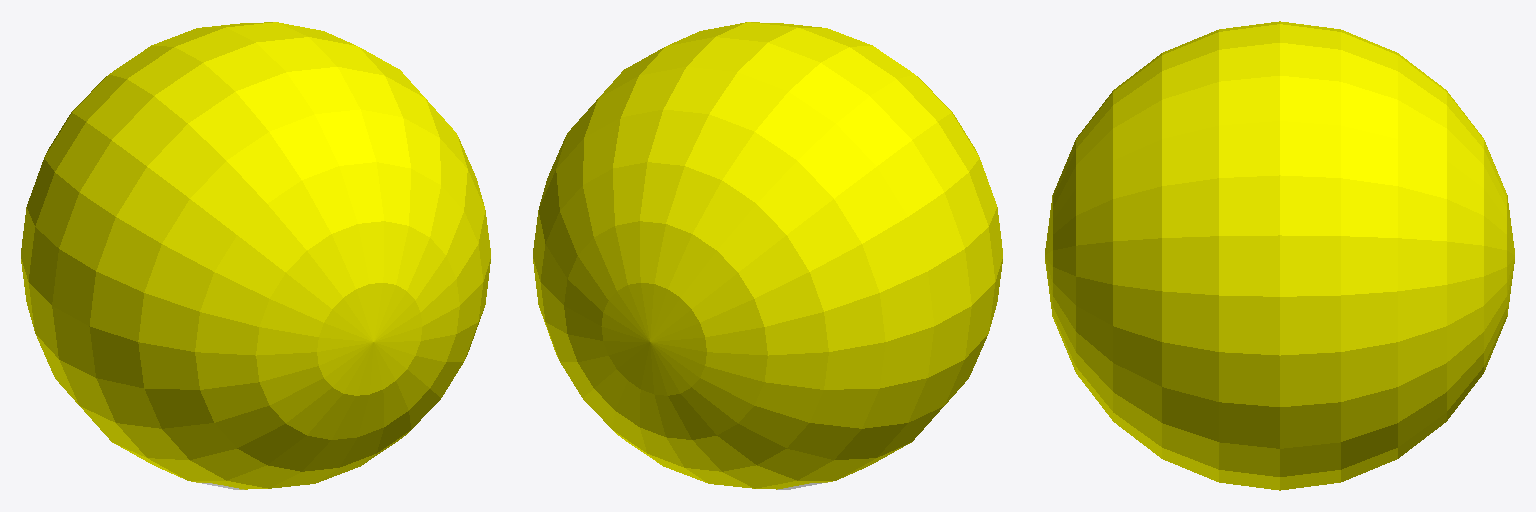
The picture shows the model from 3 angles: view 1: azimuth 30°, elevation 25°; view 2: azimuth 150°, elevation 25°; view 3: azimuth 270°, elevation 25°; orthographic projection.
Visible parts, largest first — view 1: Mesh_0.006; view 2: Mesh_0.006; view 3: Mesh_0.006.
Boxes of the visible parts, x1,y1,x2,y2 form: Mesh_0.006: [21, 22, 490, 489]; Mesh_0.006: [533, 22, 1002, 489]; Mesh_0.006: [1045, 21, 1514, 490].
Size of the model in its own units: 9.72 by 9.72 by 9.72.
Materials: 1 (1 with a texture image).